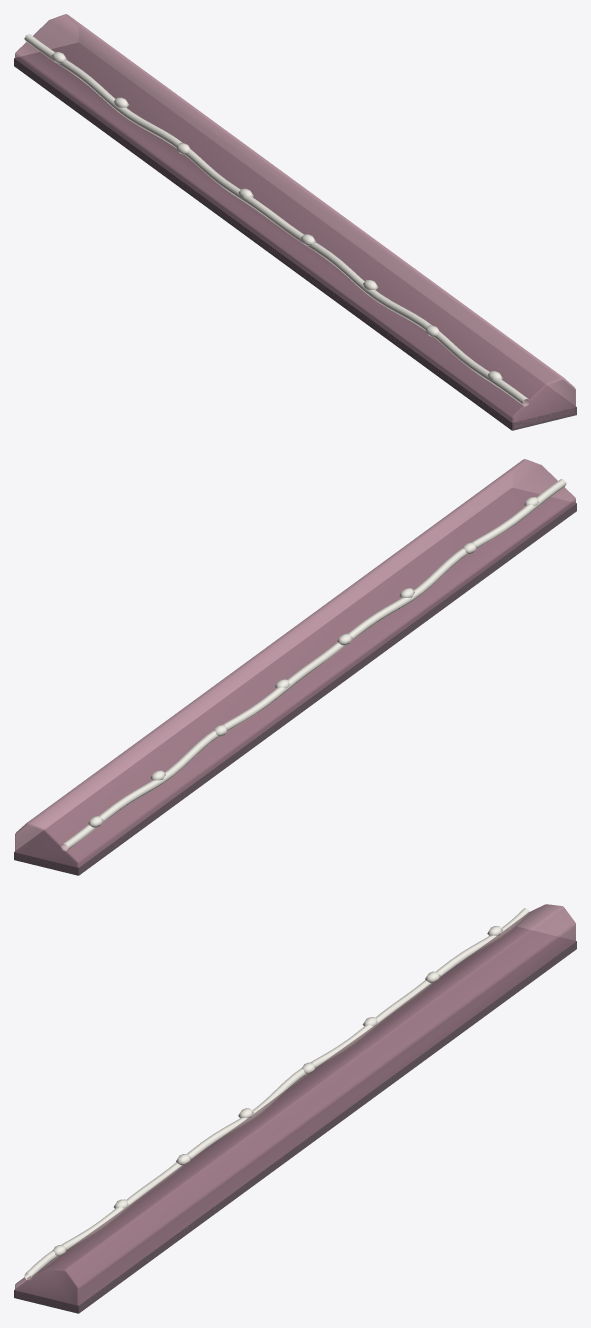
File: bank-threshold-right.glb
3 renders of one model, top to bottom at view 1: azimuth 30°, elevation 25°; view 2: azimuth 150°, elevation 25°; view 3: azimuth 330°, elevation 25°, orthographic.
Visible parts, largest first — view 1: bank_glass.001, bank_base.001, foam_lip.001; view 2: bank_glass.001, bank_base.001, foam_lip.001; view 3: bank_base.001, bank_glass.001, foam_lip.001.
Boxes of the visible parts, x1=… form: bank_glass.001: x1=15, y1=14, x2=575, y2=427; bank_base.001: x1=14, y1=43, x2=576, y2=430; foam_lip.001: x1=24, y1=34, x2=529, y2=406; bank_glass.001: x1=15, y1=459, x2=575, y2=871; bank_base.001: x1=14, y1=488, x2=576, y2=875; foam_lip.001: x1=61, y1=479, x2=566, y2=851; bank_base.001: x1=14, y1=927, x2=576, y2=1313; bank_glass.001: x1=15, y1=904, x2=575, y2=1307; foam_lip.001: x1=24, y1=908, x2=529, y2=1279.
Bounding box in the file's own units: 0.6001 × 0.3578 × 8.
